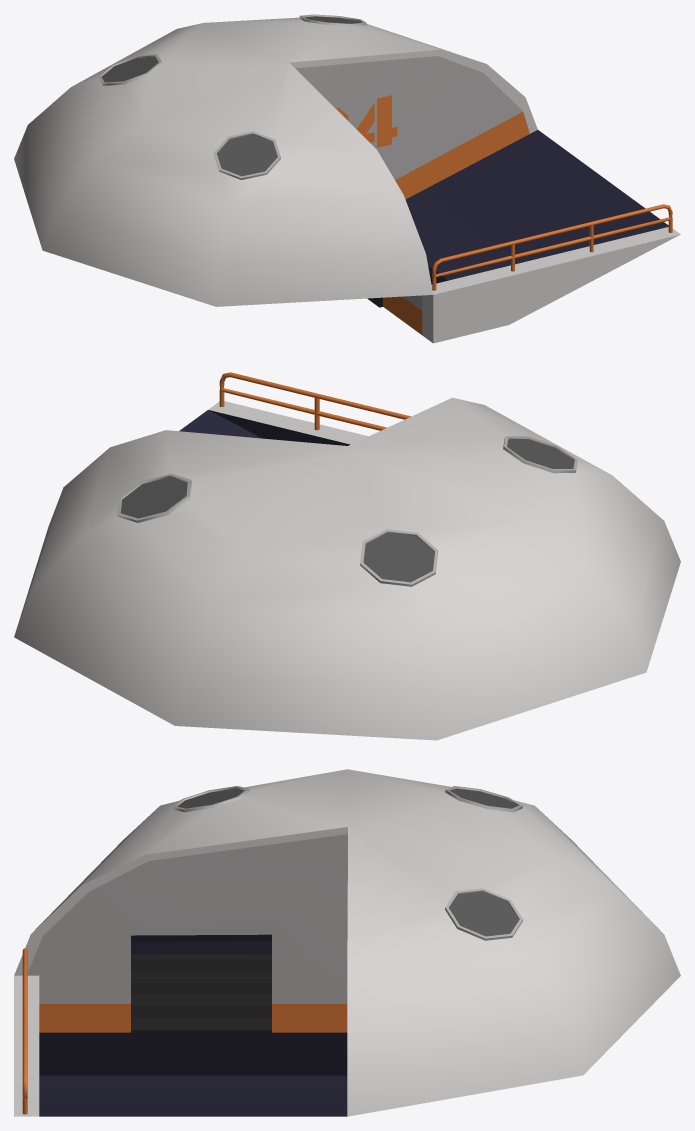
Rendered from garage.fbx.
3 renders of one model, top to bottom at view 1: azimuth 30°, elevation 25°; view 2: azimuth 150°, elevation 25°; view 3: azimuth 270°, elevation 25°, orthographic. The views are drawn at different scales.
Parts seen in each view (by area): view 1: garage; view 2: garage; view 3: garage.
Part boxes in pixels (x1,y1,x2,y2): garage: [14, 14, 680, 343]; garage: [14, 372, 680, 740]; garage: [14, 769, 680, 1116].
Bounding box in the file's own units: 12.34 × 4.19 × 12.34.
